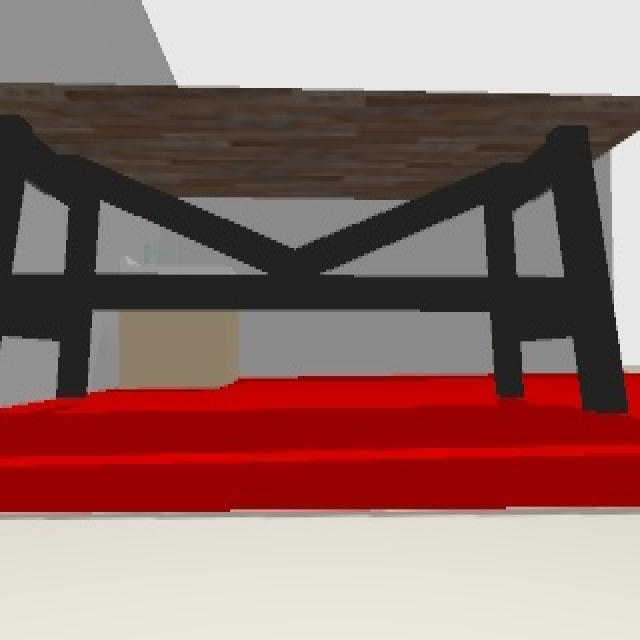dining: (0, 80, 640, 413)
